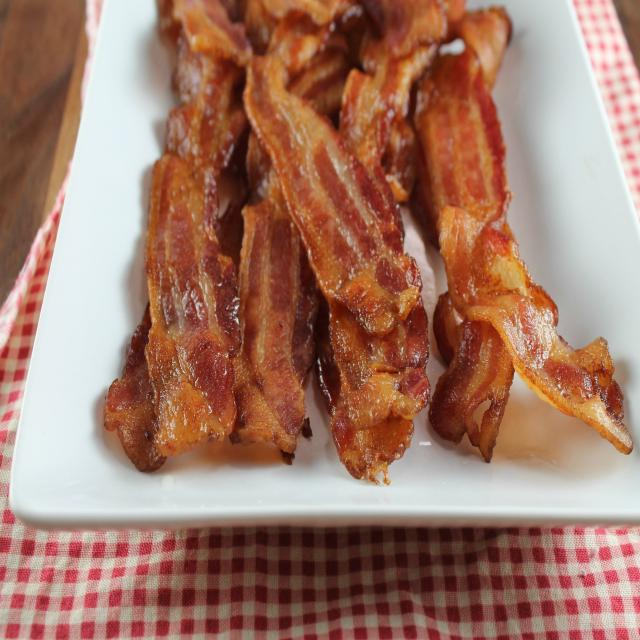Bacon: (414, 8, 632, 459), (244, 56, 421, 336), (145, 154, 240, 456), (230, 133, 318, 456), (339, 0, 464, 195), (329, 300, 430, 428), (166, 30, 245, 171)
